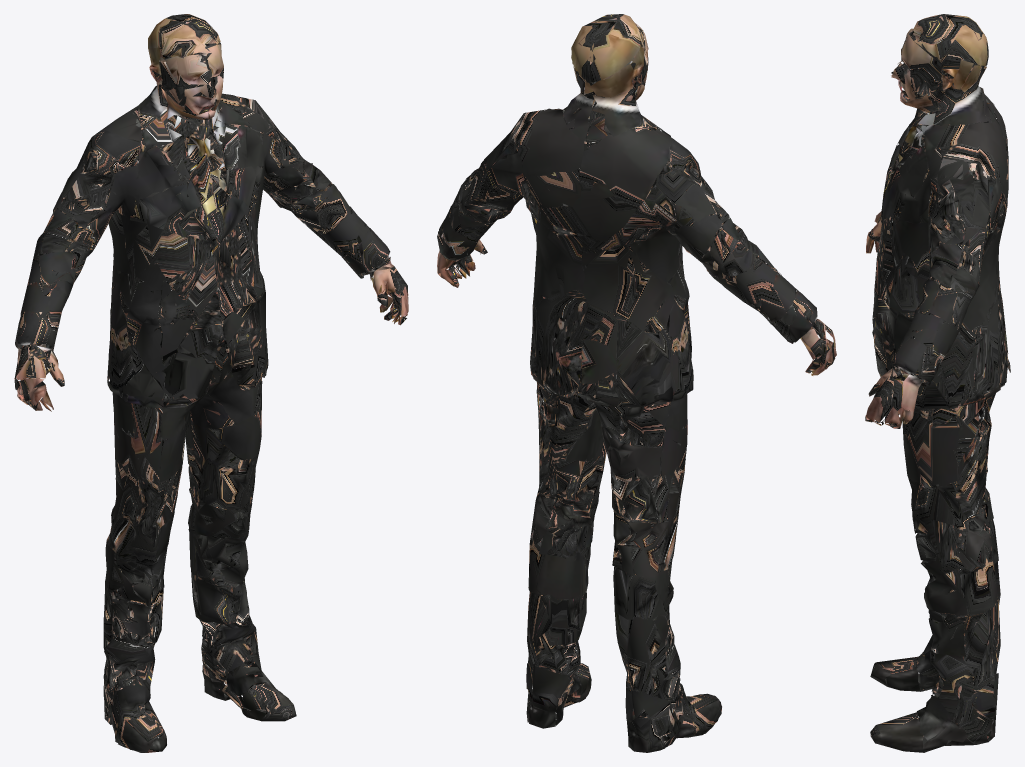
Rendered from putin.retro.glb.
The picture shows the model from 3 angles, left to right: view 1: azimuth 30°, elevation 25°; view 2: azimuth 150°, elevation 25°; view 3: azimuth 270°, elevation 25°; orthographic projection.
Visible parts, largest first — view 1: Object_7, Object_6, Object_4, Object_8, Object_9, Object_5; view 2: Object_8, Object_7, Object_4, Object_6, Object_5; view 3: Object_7, Object_6, Object_8, Object_4, Object_9, Object_5.
Boxes of the visible parts, box(x1,y1,x2,y2) form: Object_7: box(34, 14, 308, 712); Object_6: box(20, 84, 408, 752); Object_4: box(14, 44, 408, 751); Object_8: box(15, 42, 370, 719); Object_9: box(14, 40, 399, 715); Object_5: box(16, 76, 401, 684); Object_8: box(437, 27, 812, 749); Object_7: box(448, 14, 757, 725); Object_4: box(437, 36, 835, 752); Object_6: box(439, 68, 835, 733); Object_5: box(452, 127, 836, 696); Object_7: box(903, 14, 1007, 752); Object_6: box(865, 62, 1008, 752); Object_8: box(893, 30, 1009, 744); Object_4: box(866, 32, 1010, 745); Object_9: box(894, 28, 932, 731); Object_5: box(866, 60, 986, 725).
Size of the model in its own units: 1.1 by 1.9 by 0.3606.
1 material, 1 textured.
